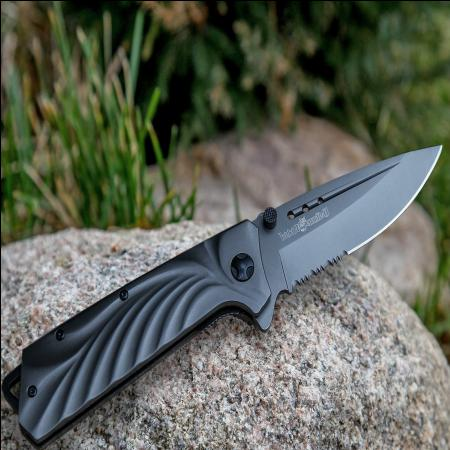long weapon: (246, 135, 445, 305)
